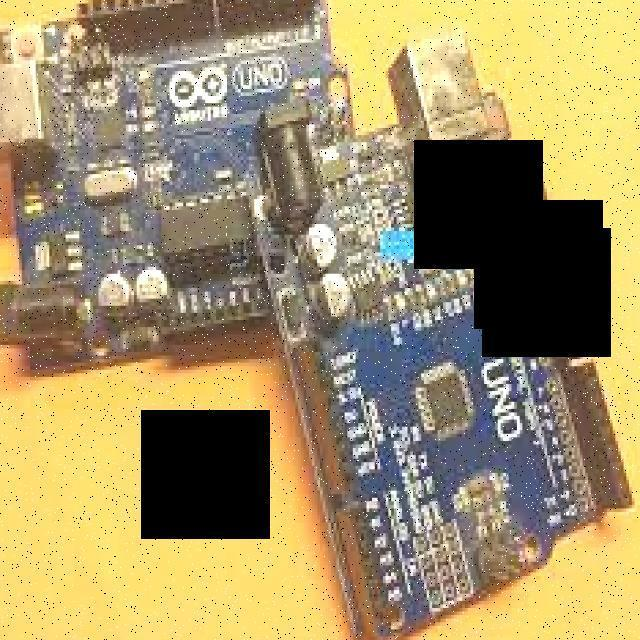arduino: (245, 137, 640, 634)
